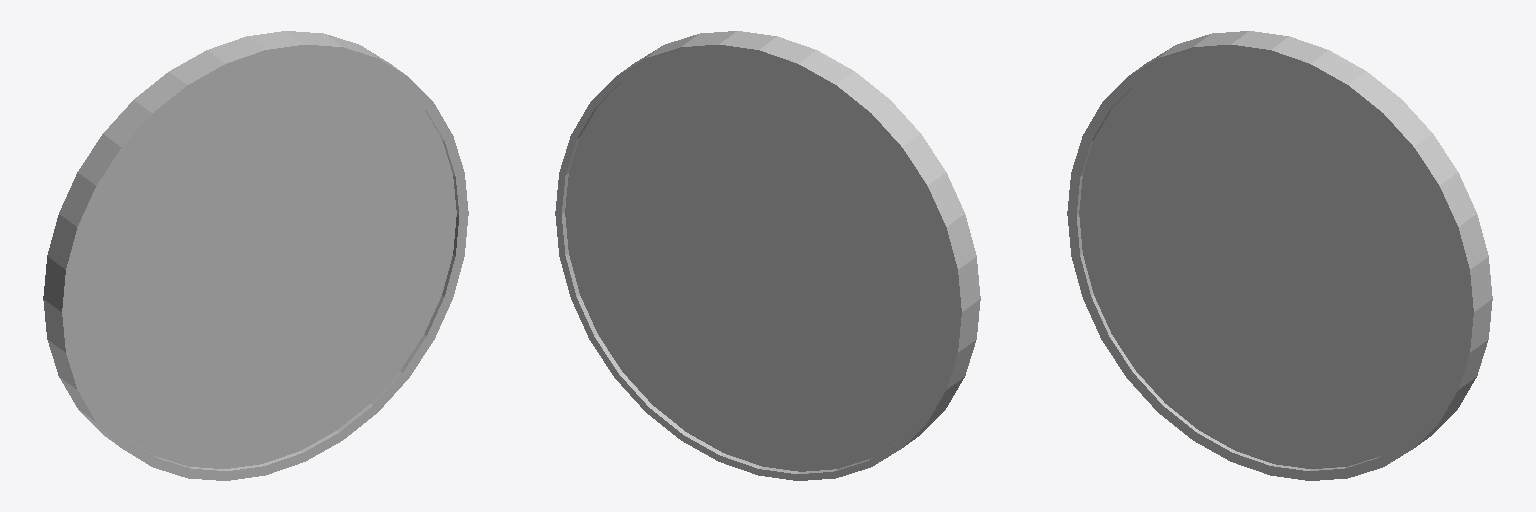
The model's file is coin.obj.
3 renders of one model, left to right at view 1: azimuth 30°, elevation 25°; view 2: azimuth 150°, elevation 25°; view 3: azimuth 330°, elevation 25°, orthographic.
Parts seen in each view (by area): view 1: Cylinder; view 2: Cylinder; view 3: Cylinder.
Boxes of the visible parts, x1=… form: Cylinder: x1=43, y1=31, x2=468, y2=480; Cylinder: x1=555, y1=31, x2=980, y2=480; Cylinder: x1=1067, y1=31, x2=1492, y2=480.
Size of the model in its own units: 2 by 2 by 0.16.